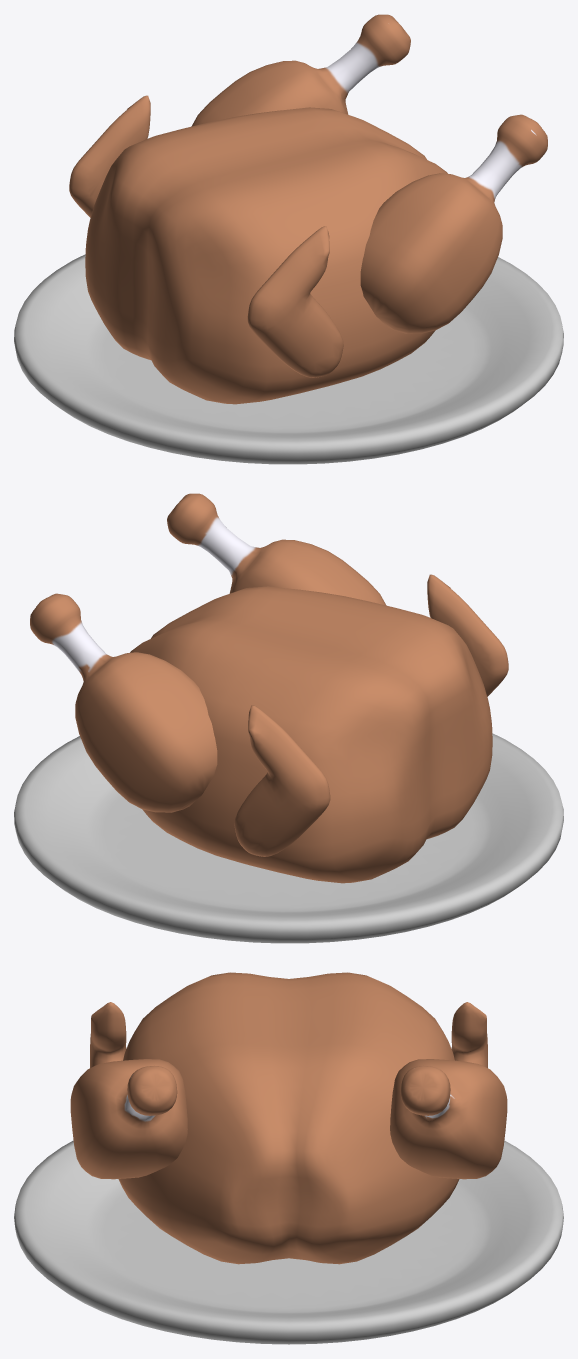
The model's file is Roasted Chicken.fbx.
3 renders of one model, top to bottom at view 1: azimuth 30°, elevation 25°; view 2: azimuth 150°, elevation 25°; view 3: azimuth 270°, elevation 25°, orthographic.
Parts seen in each view (by area): view 1: ChickenBody, Plate, ChickenLeg, ChickenWing; view 2: ChickenBody, Plate, ChickenLeg, ChickenWing; view 3: ChickenBody, Plate, ChickenLeg, ChickenWing.
Boxes of the visible parts, x1=… form: ChickenBody: x1=85, y1=107, x2=447, y2=404; Plate: x1=14, y1=254, x2=563, y2=464; ChickenLeg: x1=191, y1=14, x2=547, y2=333; ChickenWing: x1=69, y1=95, x2=343, y2=377; ChickenBody: x1=130, y1=586, x2=492, y2=883; Plate: x1=14, y1=733, x2=563, y2=943; ChickenLeg: x1=30, y1=493, x2=386, y2=812; ChickenWing: x1=234, y1=574, x2=508, y2=856; ChickenBody: x1=118, y1=972, x2=459, y2=1264; Plate: x1=14, y1=1140, x2=563, y2=1344; ChickenLeg: x1=70, y1=1059, x2=507, y2=1179; ChickenWing: x1=90, y1=1002, x2=487, y2=1067.
Bounding box in the file's own units: 66.8 × 36.25 × 66.8.
Materials: 4 (4 with a texture image).
